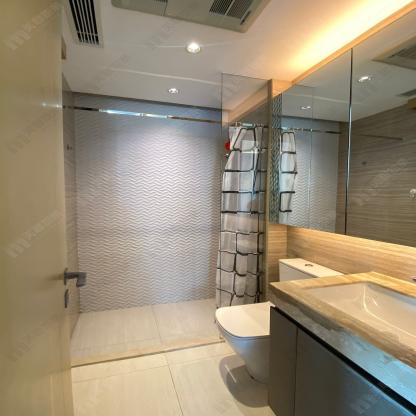Toilet: (215, 301, 269, 384), (279, 258, 346, 282)
Toilet Sink: (269, 271, 416, 407)
Water Cubicle: (64, 106, 269, 367)
